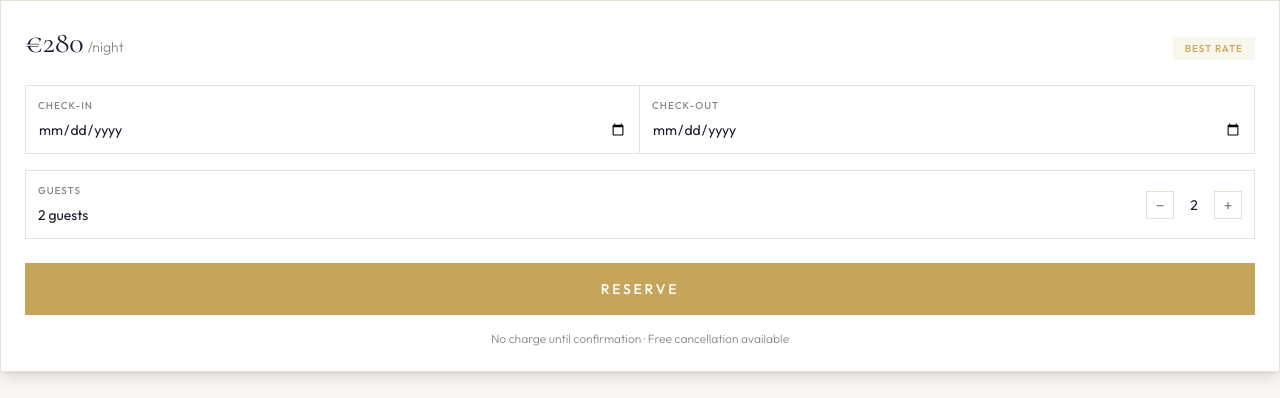
Test: BookingWidget — guest counter › increments guest count when plus button is clicked
Click the button named "Add guest" at (1228, 204), box [1214,190,1242,218]
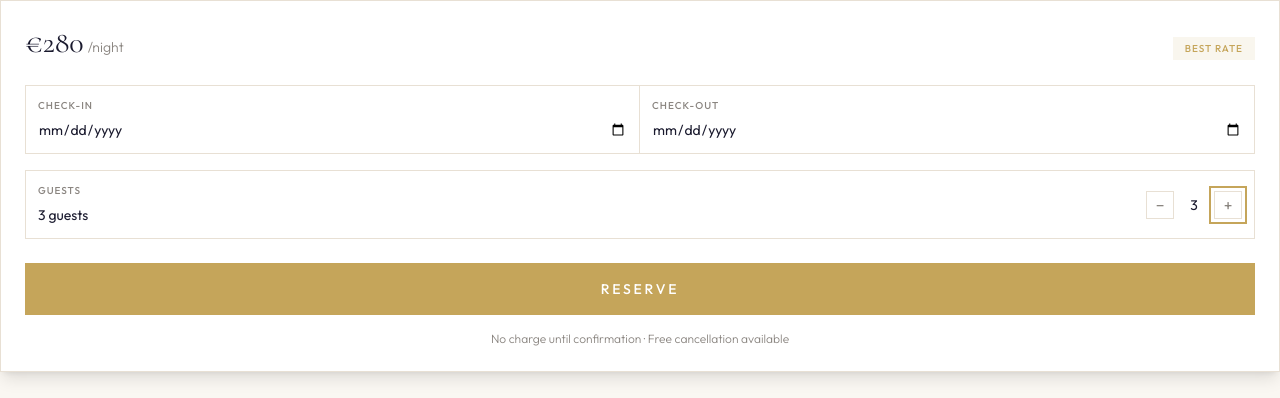
Now the text "3 guests" is shown, box [38,206,88,224]
